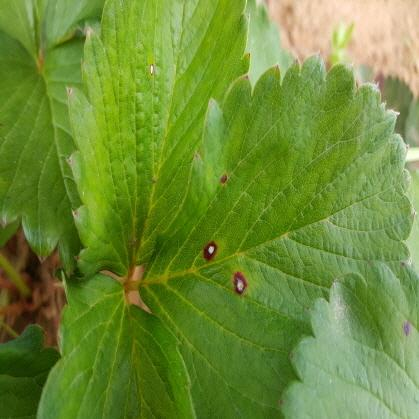Leaf Spot: (137, 49, 417, 418), (63, 0, 251, 282), (280, 260, 418, 418)
